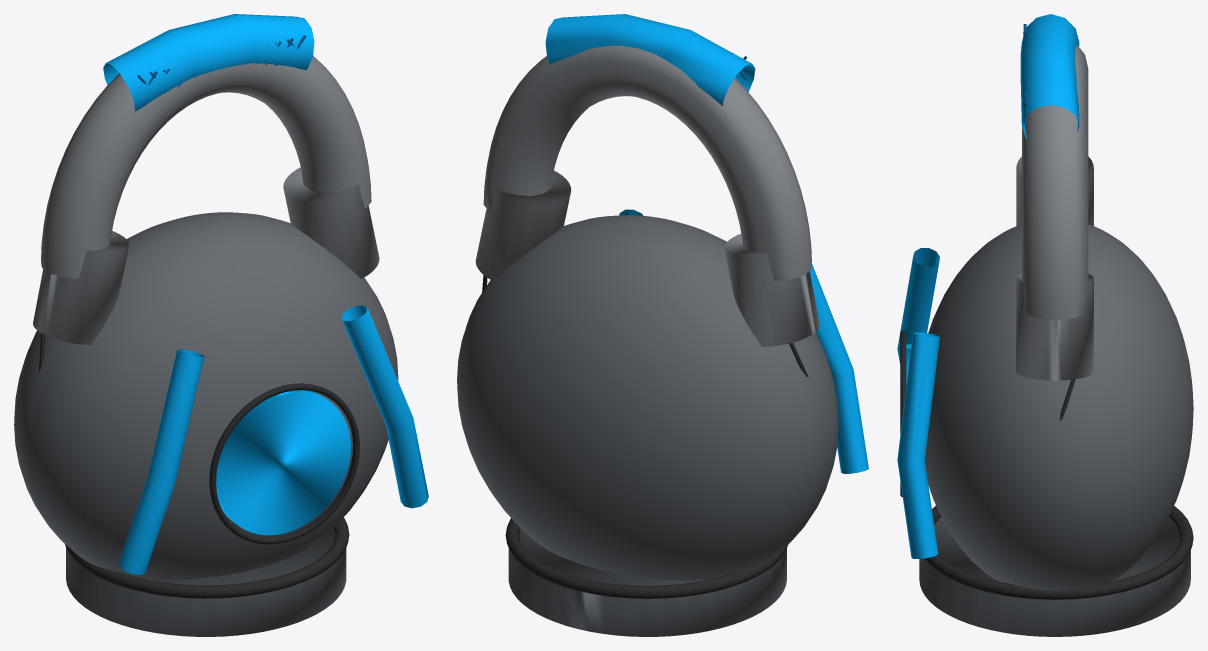
The model's file is Kettleball_3D.glb.
The picture shows the model from 3 angles, left to right: view 1: azimuth 30°, elevation 25°; view 2: azimuth 150°, elevation 25°; view 3: azimuth 270°, elevation 25°; orthographic projection. The views are drawn at different scales.
Visible parts, largest first — view 1: Kettleball_3D__web_dark_graphite_kettlebell_rubber, Kettleball_3D__web_bright_blue_kettlebell_accent_panels, Kettleball_3D__web_dark_satin_kettlebell_handle_metal, Kettleball_3D__web_black_kettlebell_recess_shadows; view 2: Kettleball_3D__web_dark_graphite_kettlebell_rubber, Kettleball_3D__web_dark_satin_kettlebell_handle_metal, Kettleball_3D__web_bright_blue_kettlebell_accent_panels, Kettleball_3D__web_black_kettlebell_recess_shadows; view 3: Kettleball_3D__web_dark_graphite_kettlebell_rubber, Kettleball_3D__web_dark_satin_kettlebell_handle_metal, Kettleball_3D__web_bright_blue_kettlebell_accent_panels, Kettleball_3D__web_black_kettlebell_recess_shadows.
Boxes of the visible parts, x1,y1,x2,y2 form: Kettleball_3D__web_dark_graphite_kettlebell_rubber: (14, 212, 398, 636); Kettleball_3D__web_bright_blue_kettlebell_accent_panels: (103, 14, 428, 574); Kettleball_3D__web_dark_satin_kettlebell_handle_metal: (33, 56, 379, 344); Kettleball_3D__web_black_kettlebell_recess_shadows: (39, 333, 359, 598); Kettleball_3D__web_dark_graphite_kettlebell_rubber: (457, 215, 838, 636); Kettleball_3D__web_dark_satin_kettlebell_handle_metal: (475, 45, 819, 346); Kettleball_3D__web_bright_blue_kettlebell_accent_panels: (545, 14, 868, 473); Kettleball_3D__web_black_kettlebell_recess_shadows: (482, 275, 808, 598); Kettleball_3D__web_dark_graphite_kettlebell_rubber: (919, 224, 1193, 636); Kettleball_3D__web_dark_satin_kettlebell_handle_metal: (1016, 45, 1093, 380); Kettleball_3D__web_bright_blue_kettlebell_accent_panels: (897, 14, 1079, 558); Kettleball_3D__web_black_kettlebell_recess_shadows: (900, 330, 1193, 599).
Bounding box in the file's own units: 0.72 × 1.07 × 0.5347.
